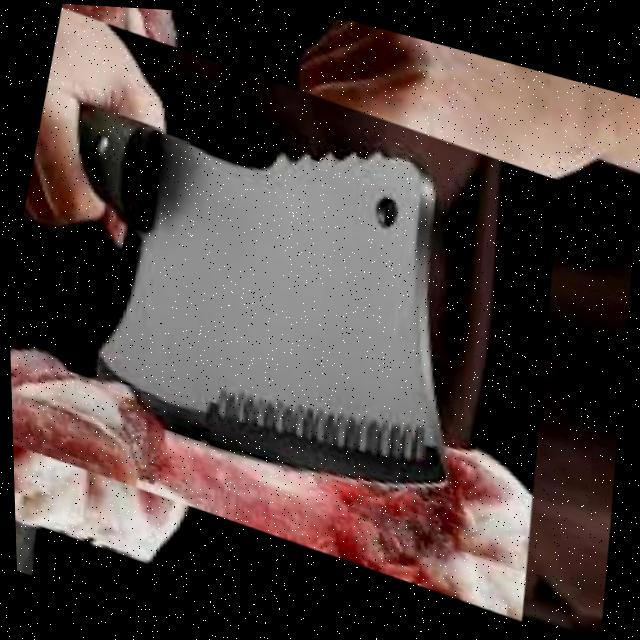knife: (14, 61, 514, 509)
